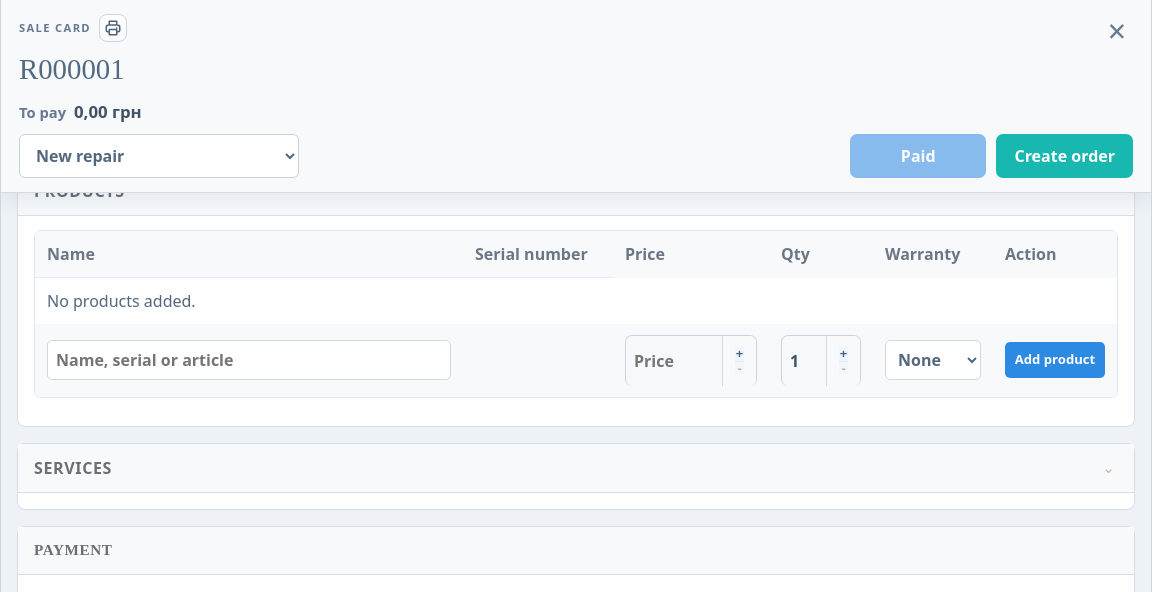
OrderDetailCard product entry › resolves catalog suggestion to matching bulk stock and prefills retail price
The width and height of the screenshot is (1152, 592).
Type "Videx" into the field with placeholder "Name, serial or article" at coordinates (249, 360), box x1=47 y1=340 x2=451 y2=380
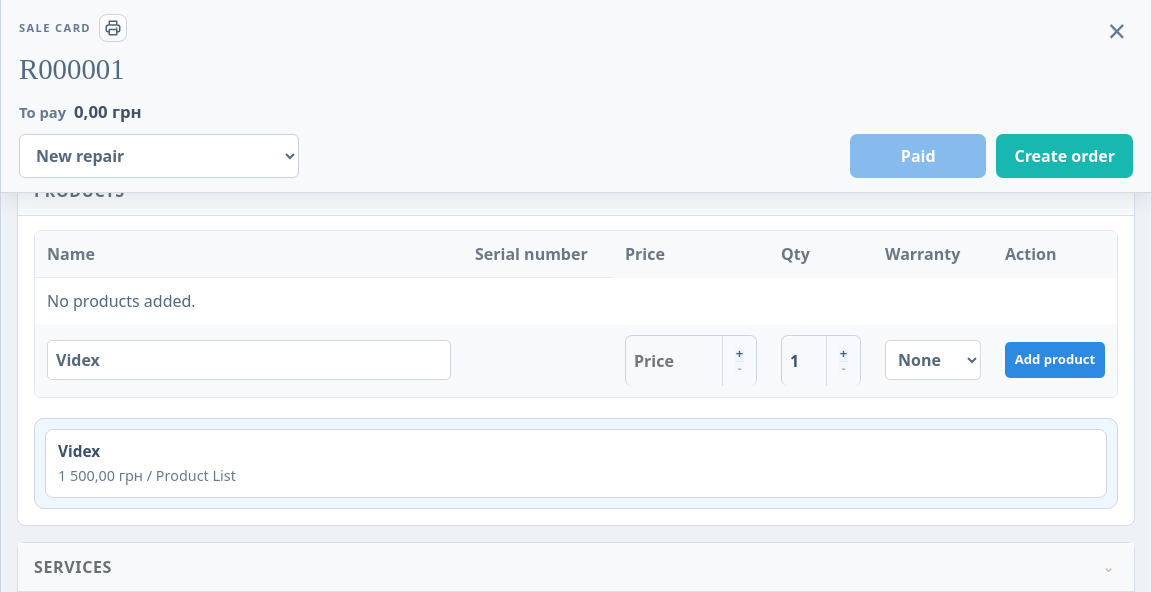
Now the button "Videx 1 500,00 грн / Product List" is shown
Click the button "Videx 1 500,00 грн / Product List" at coordinates (79, 451), box x1=54 y1=434 x2=1098 y2=492
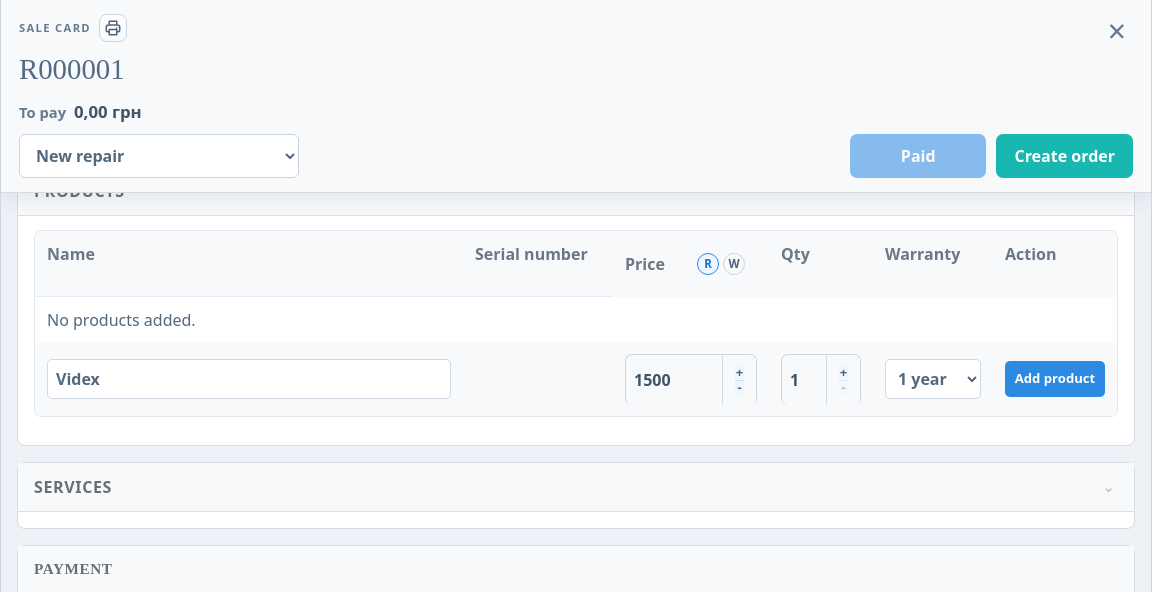
Now the button named "Retail" is shown, box x1=697 y1=253 x2=719 y2=275
Now the field showing "1500" is shown, box x1=626 y1=355 x2=722 y2=405
Now the button named "Wholesale" is shown, box x1=723 y1=253 x2=745 y2=275
